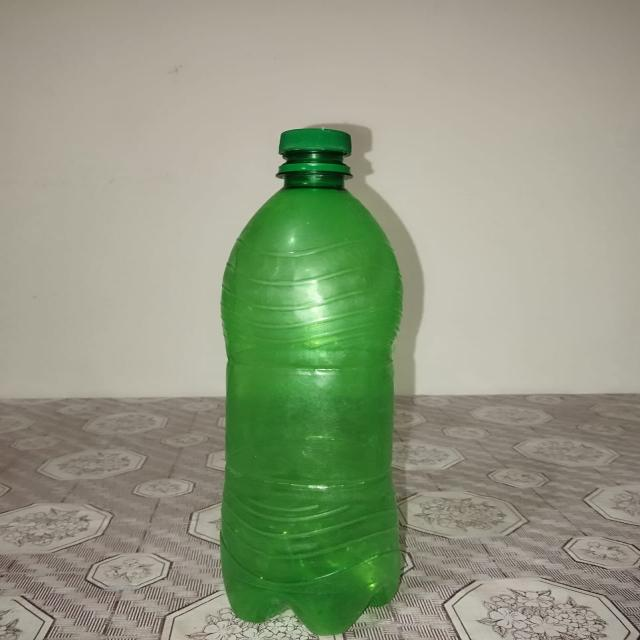bottle: (219, 123, 407, 633)
cap: (276, 128, 356, 174)
